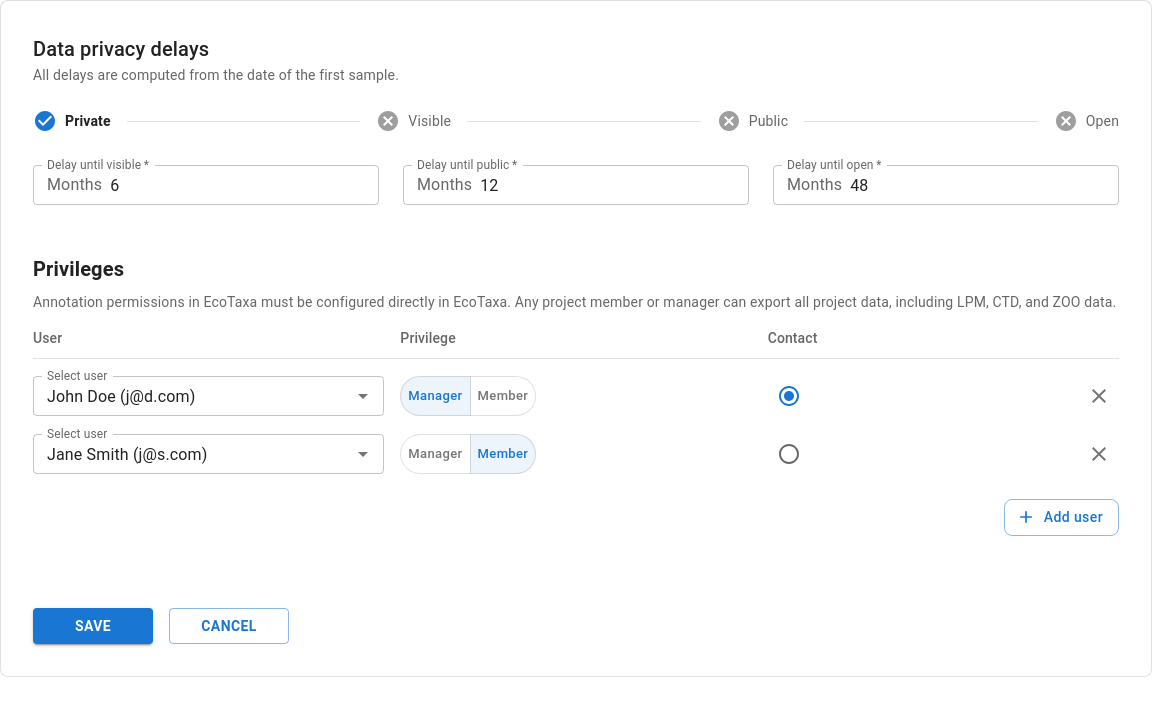
Scenario: ProjectSecurityTab (Functional) › TC-K3: should successfully save updated security settings
Replace the text in the number field showing "6" with "12": (245, 185) [110, 165, 379, 205]
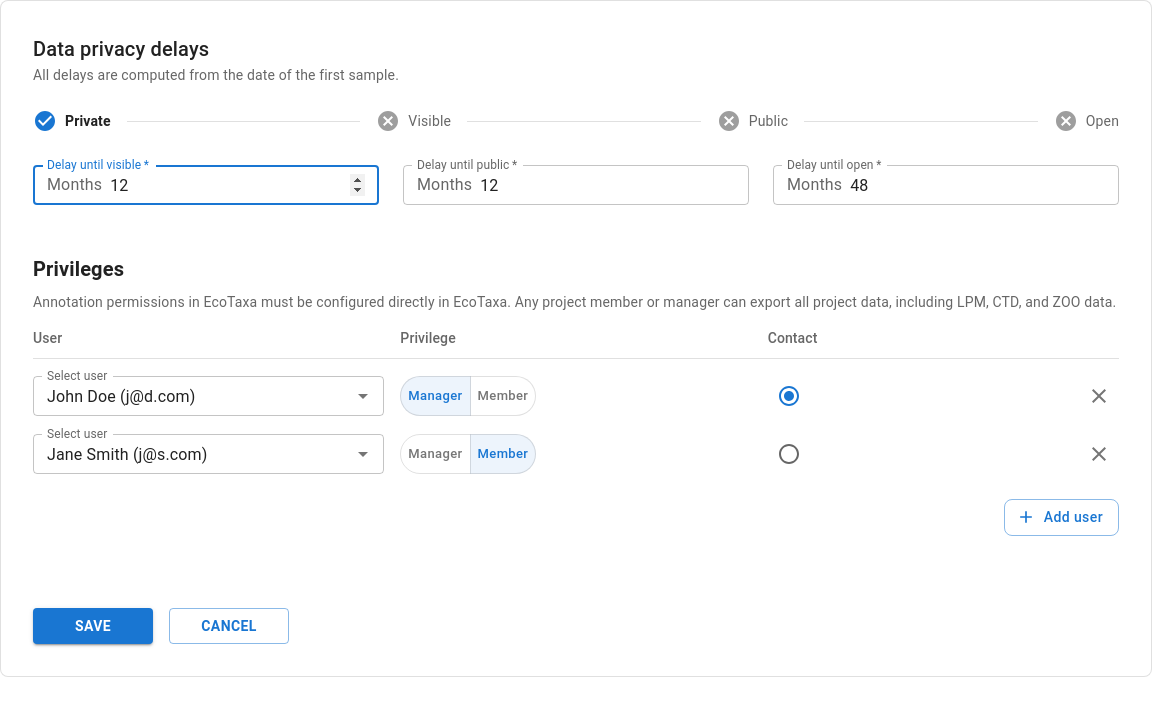
Click the button "SAVE": (93, 626) [33, 608, 153, 644]
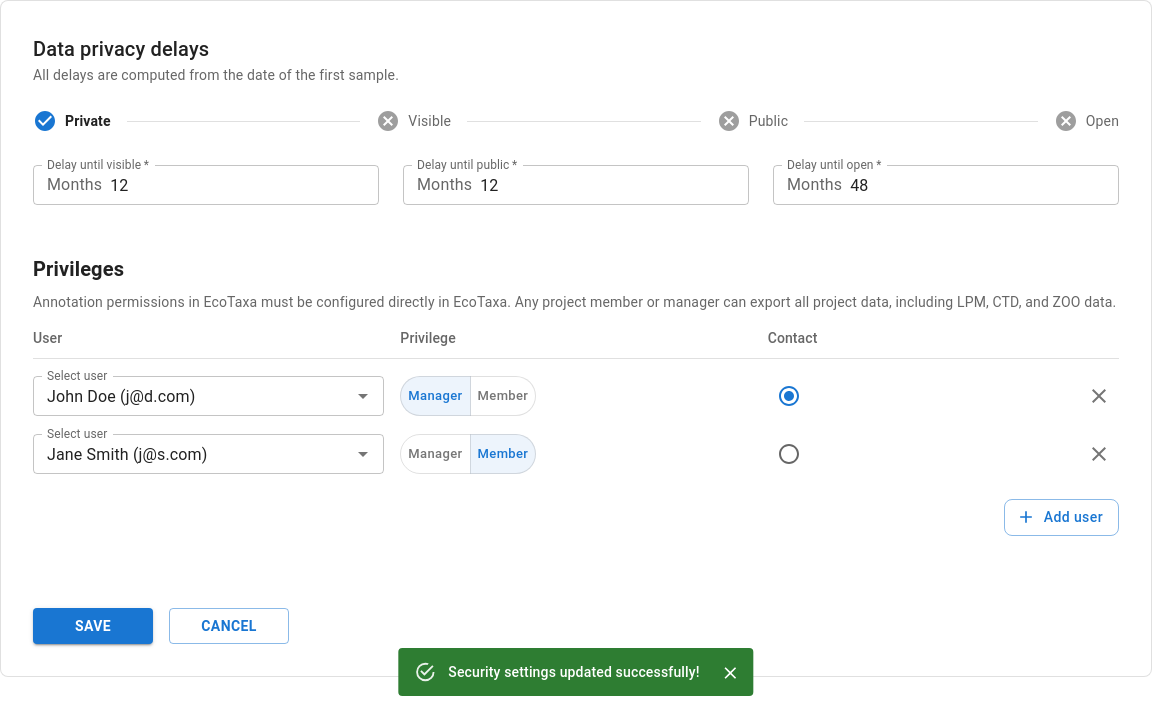
Check: the text "Security settings updated successfully!" is shown, box [448, 664, 700, 680]
